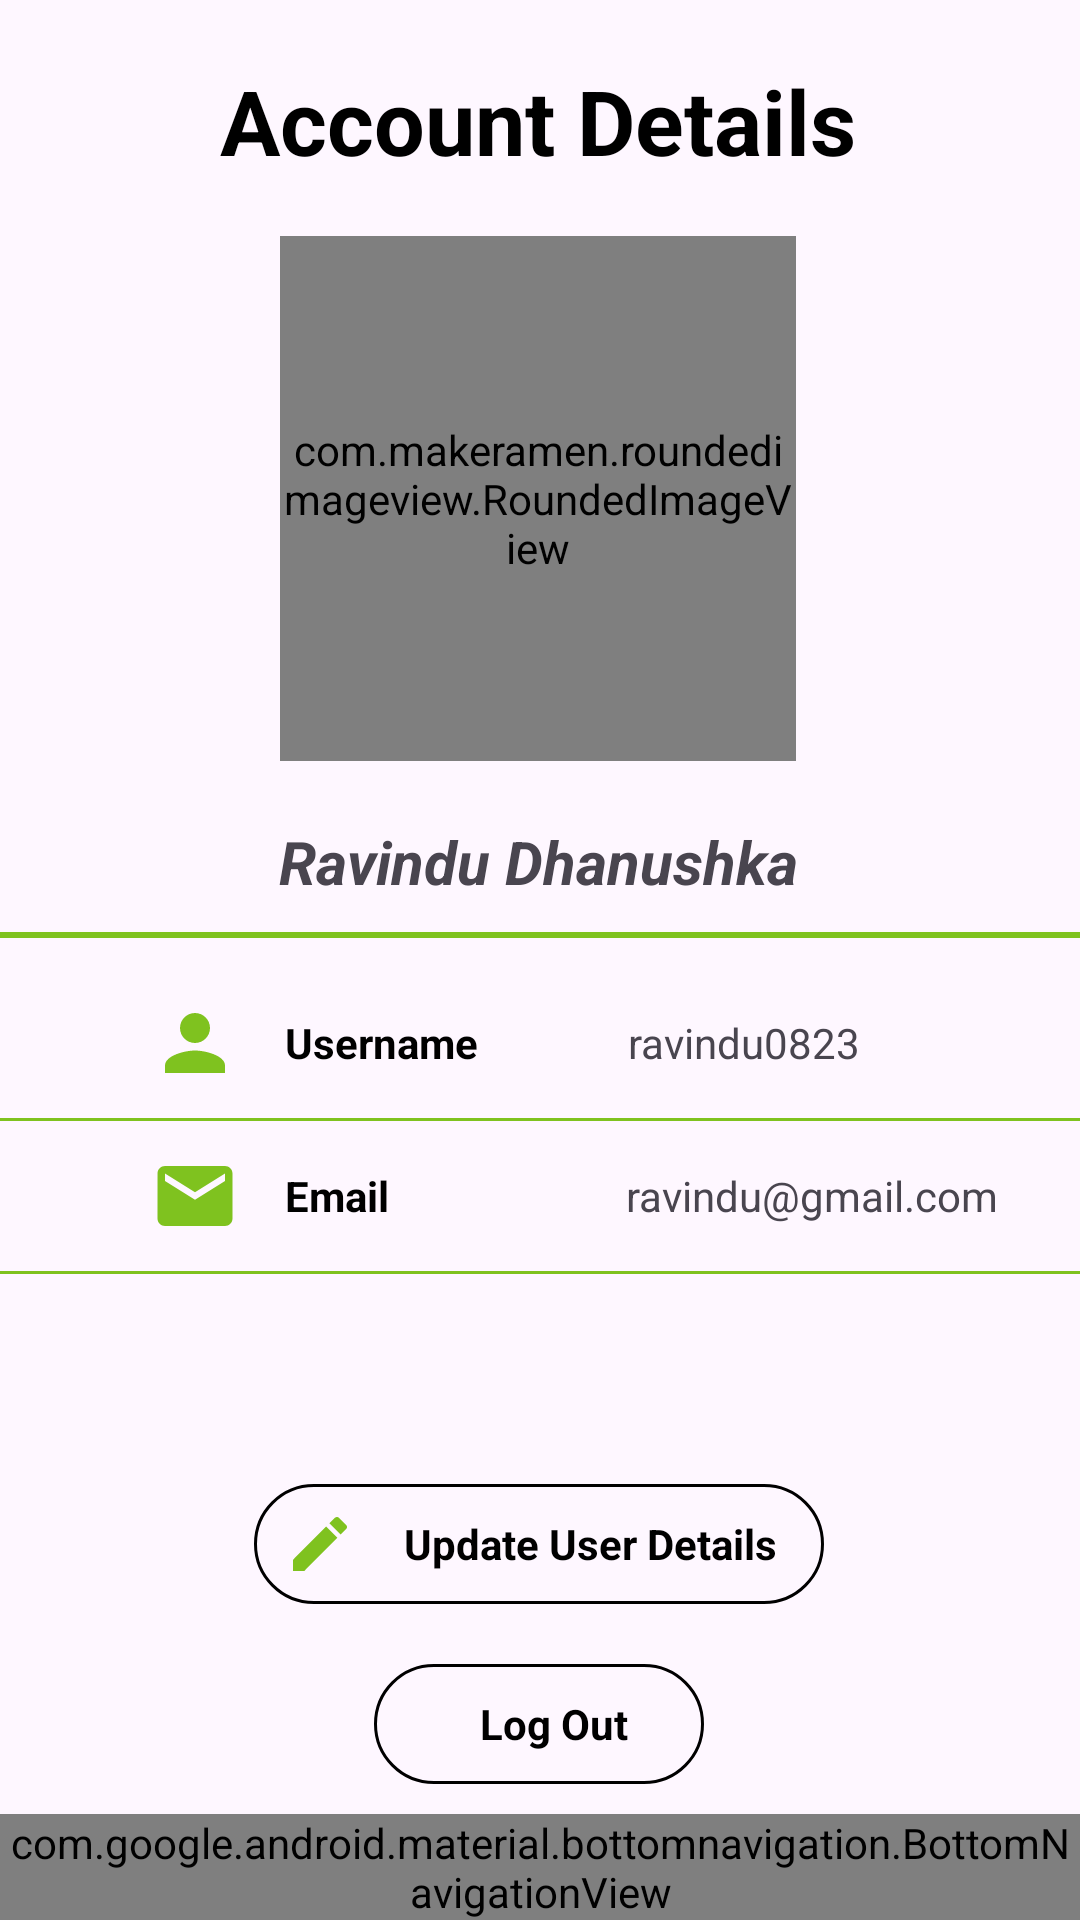

Named icons in this screenshot (1080×1920) and their centers, [x,y]:
person: [195,1043]
